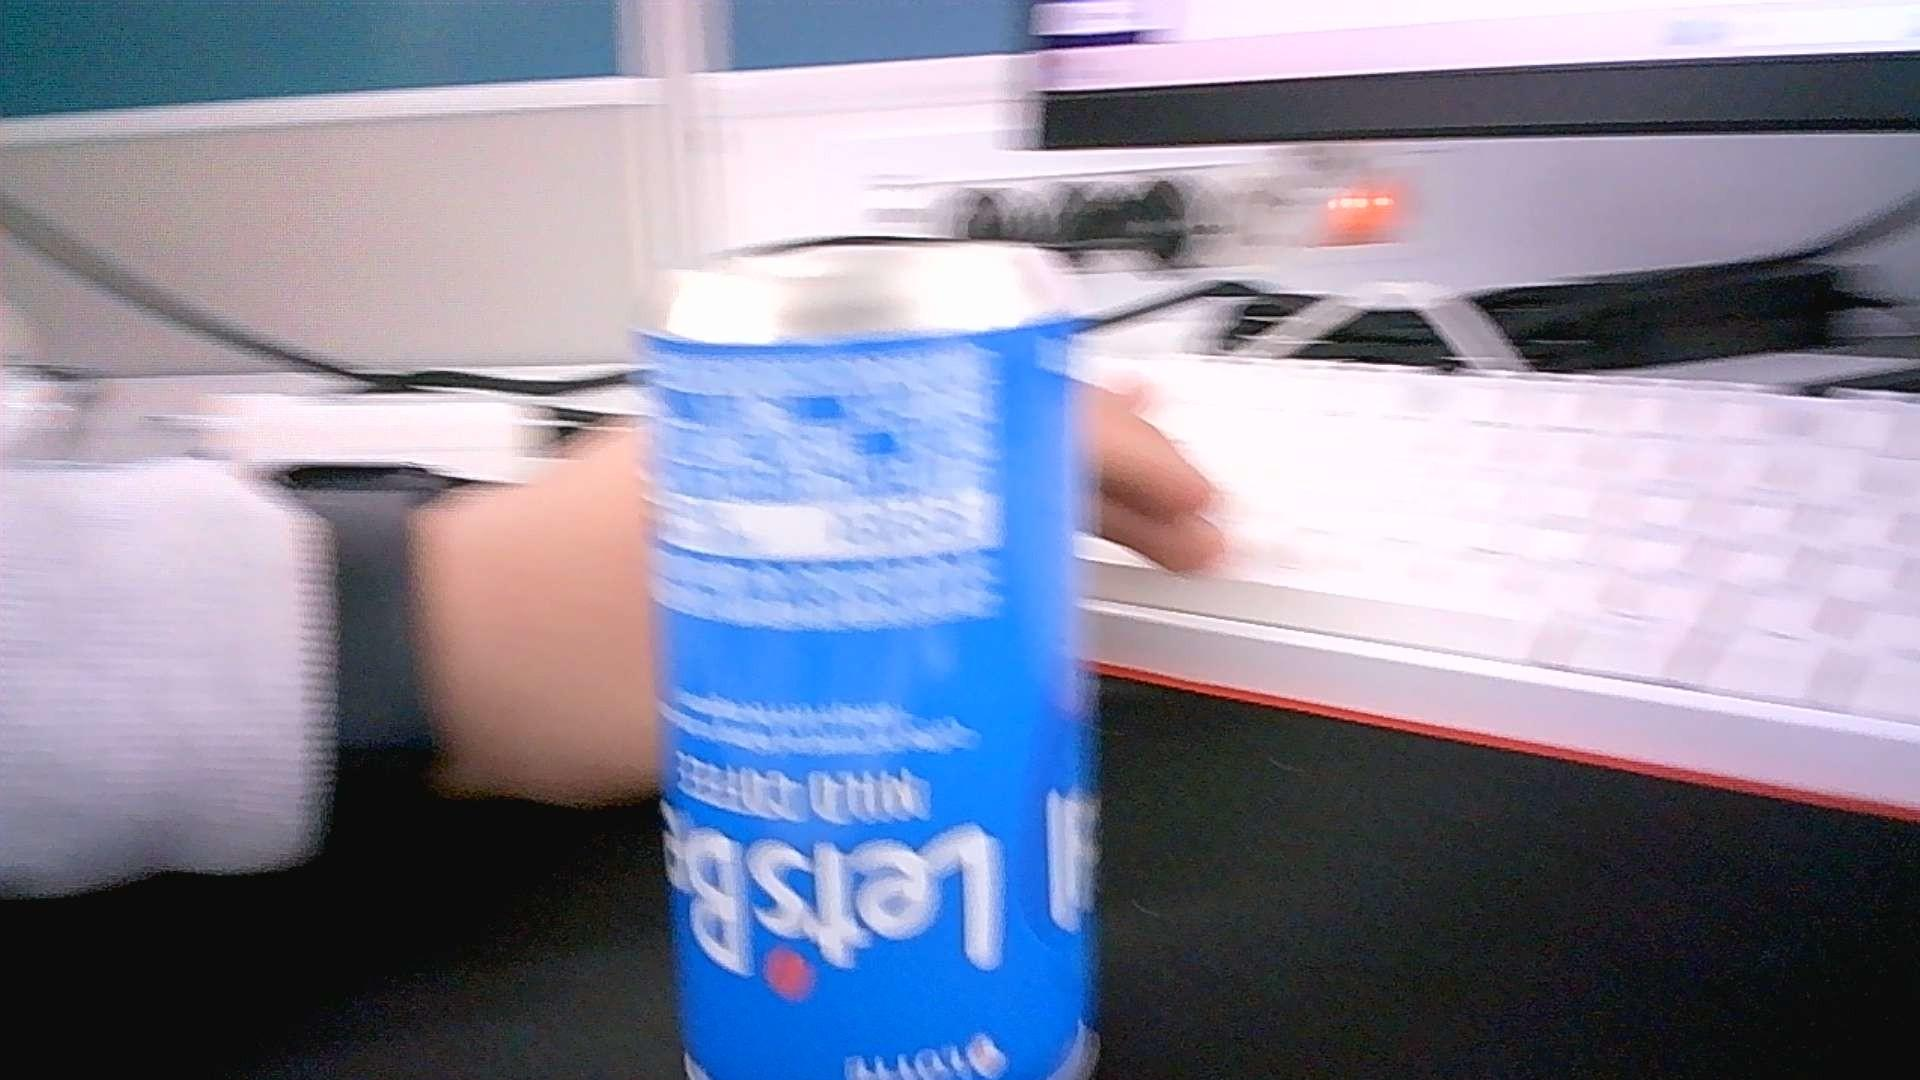letsbe: (638, 240, 1097, 1080)
